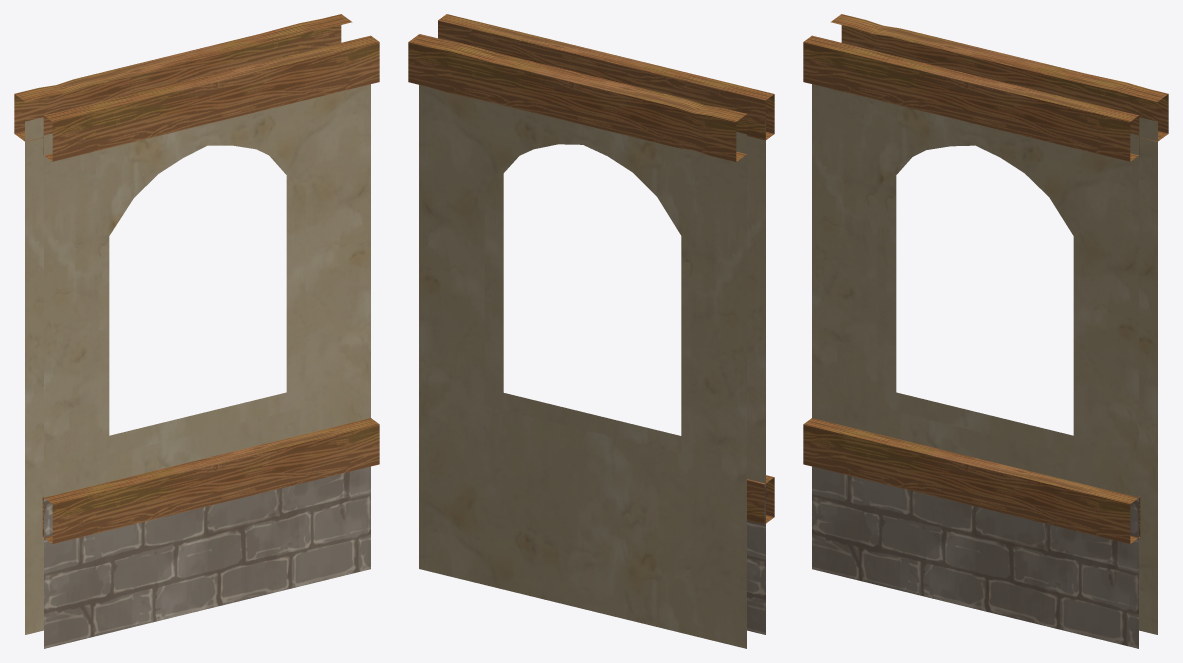
The model's file is Wall_Plaster_Window_Wide_Round.glb.
3 renders of one model, left to right at view 1: azimuth 30°, elevation 25°; view 2: azimuth 150°, elevation 25°; view 3: azimuth 330°, elevation 25°, orthographic.
Visible parts, largest first — view 1: Wall_Plaster_Window_Wide_Round; view 2: Wall_Plaster_Window_Wide_Round; view 3: Wall_Plaster_Window_Wide_Round.
Boxes of the visible parts, x1=… form: Wall_Plaster_Window_Wide_Round: x1=14, y1=14, x2=379, y2=648; Wall_Plaster_Window_Wide_Round: x1=408, y1=14, x2=774, y2=648; Wall_Plaster_Window_Wide_Round: x1=803, y1=14, x2=1168, y2=648.
Size of the model in its own units: 2 by 3.12 by 0.4064.
3 materials, 3 textured.
